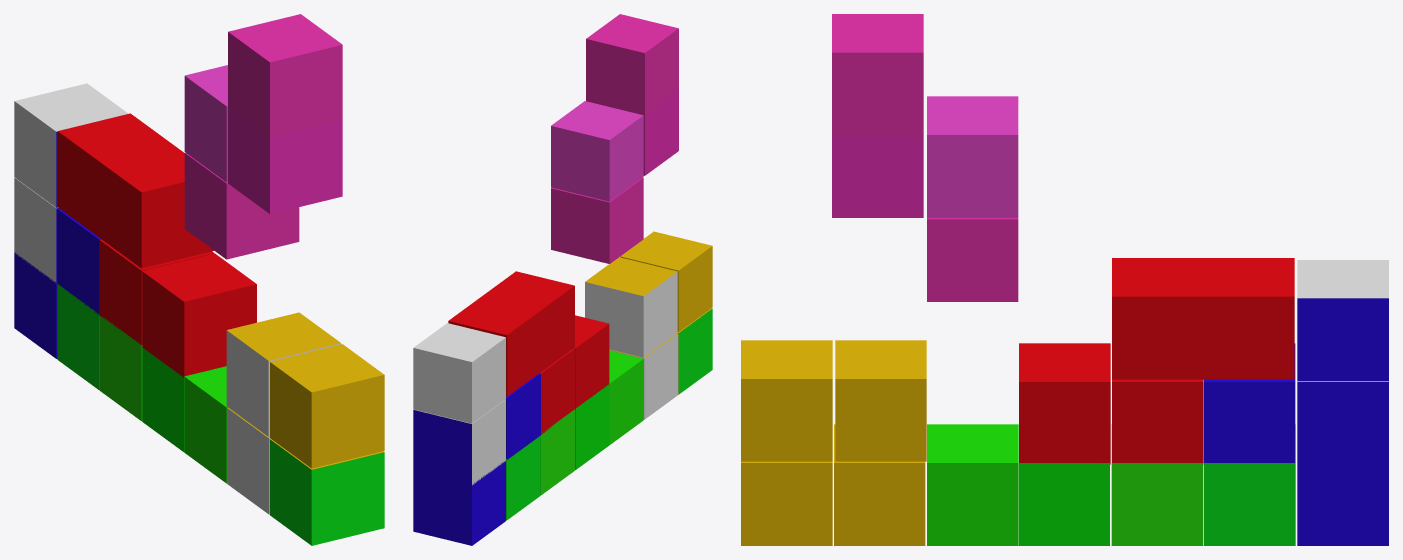
Rendered from tetris.glb.
The picture shows the model from 3 angles, left to right: view 1: azimuth 30°, elevation 25°; view 2: azimuth 150°, elevation 25°; view 3: azimuth 270°, elevation 25°; orthographic projection. The views are drawn at different scales.
Visible parts, largest first — view 1: Cube.002, Cube.014, Cube.011, Cube.019, Cube.018, Cube.016, Cube.017, Cube.004, Cube.006, Cube.007, Cube.005; view 2: Cube.011, Cube.002, Cube.014, Cube.017, Cube.019, Cube.016, Cube.004, Cube.018, Cube.005, Cube.006, Cube.007; view 3: Cube.014, Cube.002, Cube.011, Cube.004, Cube.017, Cube.019, Cube.006, Cube.016, Cube.005, Cube.007, Cube.018.
Boxes of the visible parts, x1=… form: Cube.002: x1=226, y1=312, x2=384, y2=545; Cube.014: x1=57, y1=113, x2=256, y2=377; Cube.011: x1=14, y1=83, x2=128, y2=358; Cube.019: x1=228, y1=14, x2=342, y2=138; Cube.018: x1=228, y1=107, x2=342, y2=214; Cube.016: x1=184, y1=152, x2=299, y2=259; Cube.017: x1=184, y1=65, x2=227, y2=182; Cube.004: x1=184, y1=366, x2=227, y2=483; Cube.006: x1=99, y1=315, x2=142, y2=421; Cube.007: x1=57, y1=284, x2=99, y2=390; Cube.005: x1=142, y1=347, x2=226, y2=452; Cube.011: x1=413, y1=323, x2=540, y2=545; Cube.002: x1=585, y1=231, x2=712, y2=419; Cube.014: x1=448, y1=271, x2=609, y2=434; Cube.017: x1=551, y1=101, x2=643, y2=201; Cube.019: x1=586, y1=14, x2=678, y2=114; Cube.016: x1=551, y1=177, x2=643, y2=263; Cube.004: x1=609, y1=350, x2=643, y2=444; Cube.018: x1=586, y1=90, x2=678, y2=175; Cube.005: x1=575, y1=384, x2=609, y2=469; Cube.006: x1=540, y1=409, x2=574, y2=495; Cube.007: x1=506, y1=436, x2=540, y2=520; Cube.014: x1=1019, y1=258, x2=1294, y2=464; Cube.002: x1=741, y1=340, x2=926, y2=545; Cube.011: x1=1204, y1=260, x2=1388, y2=545; Cube.004: x1=927, y1=424, x2=1018, y2=545; Cube.017: x1=927, y1=96, x2=1018, y2=217; Cube.019: x1=832, y1=14, x2=923, y2=135; Cube.006: x1=1111, y1=424, x2=1203, y2=545; Cube.016: x1=927, y1=218, x2=1018, y2=301; Cube.005: x1=1018, y1=424, x2=1109, y2=545; Cube.007: x1=1204, y1=424, x2=1295, y2=545; Cube.018: x1=832, y1=135, x2=923, y2=217.
Size of the model in its own units: 2 by 11.9 by 14.16.
